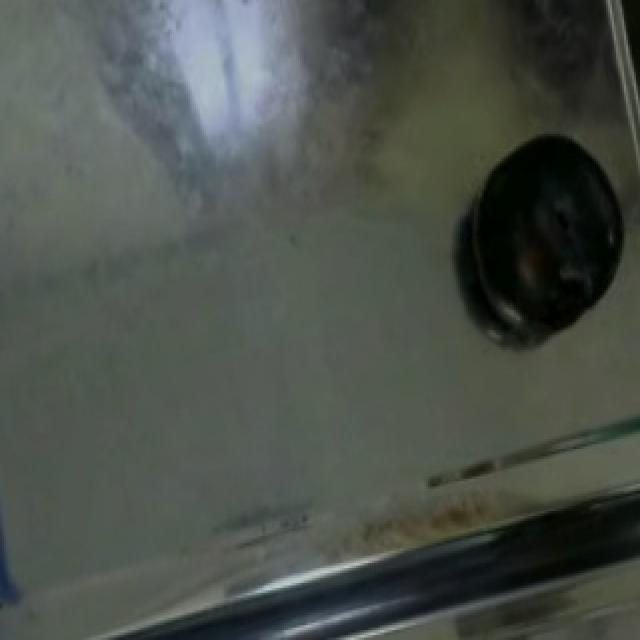Fruit: (458, 122, 640, 347)
